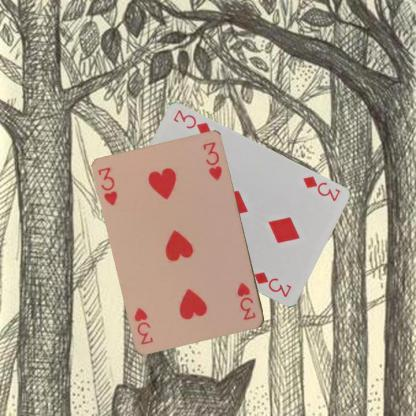3d: (300, 173, 341, 203)
3h: (96, 165, 119, 208), (235, 280, 257, 322)
